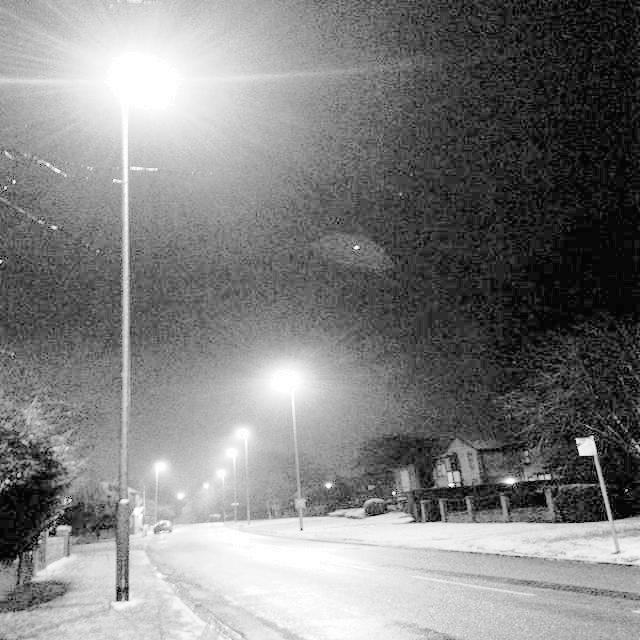Light: (100, 47, 187, 113), (214, 420, 252, 482), (268, 362, 309, 395)
